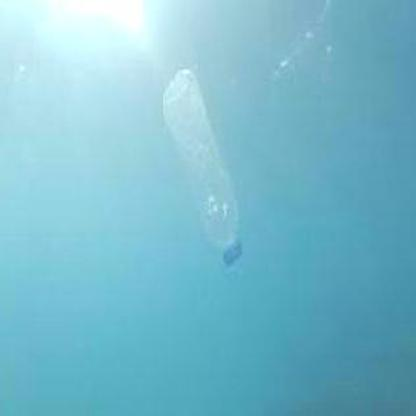plastic bottle: (162, 69, 244, 265)
